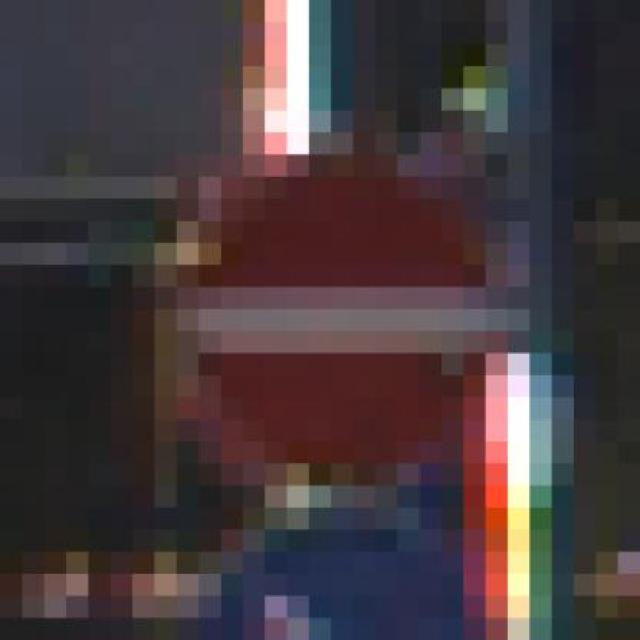No Entry: (132, 132, 530, 486)
